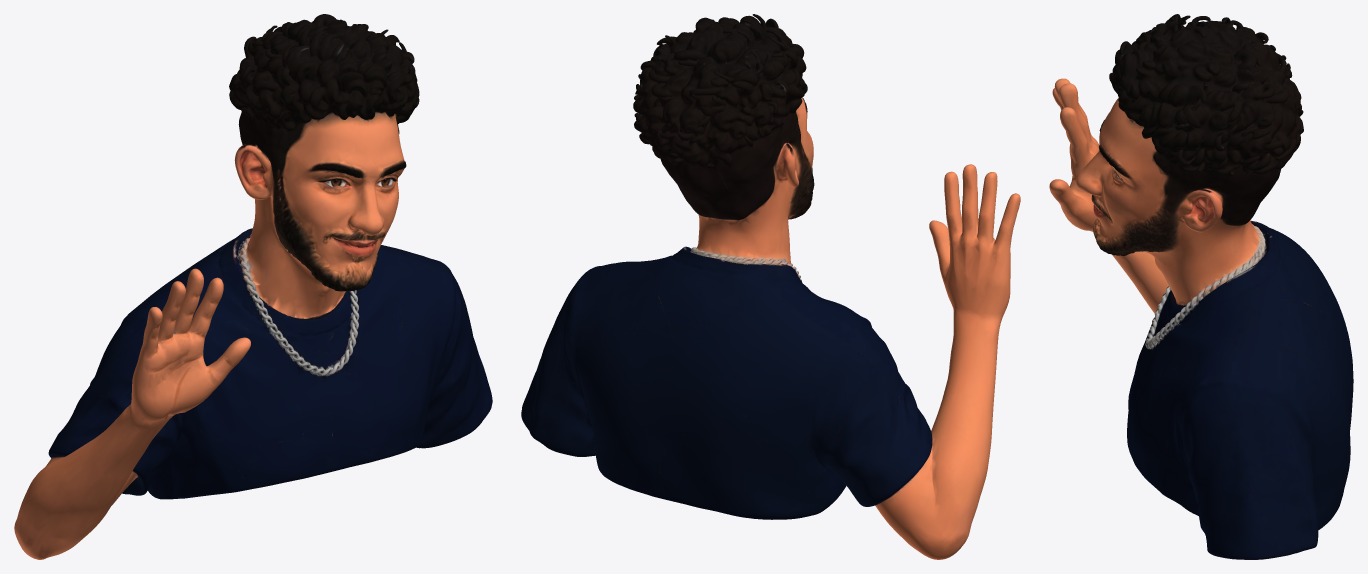
Rendered from head.glb.
3 renders of one model, left to right at view 1: azimuth 30°, elevation 25°; view 2: azimuth 150°, elevation 25°; view 3: azimuth 270°, elevation 25°, orthographic. The views are drawn at different scales.
Visible parts, largest first — view 1: mesh_node; view 2: mesh_node; view 3: mesh_node.
Boxes of the visible parts, x1,y1,x2,y2 form: mesh_node: (14,14,492,559); mesh_node: (521,14,1020,559); mesh_node: (1049,14,1353,559).
Bounding box in the file's own units: 1.9 × 1.89 × 1.06.
1 material, 1 textured.
